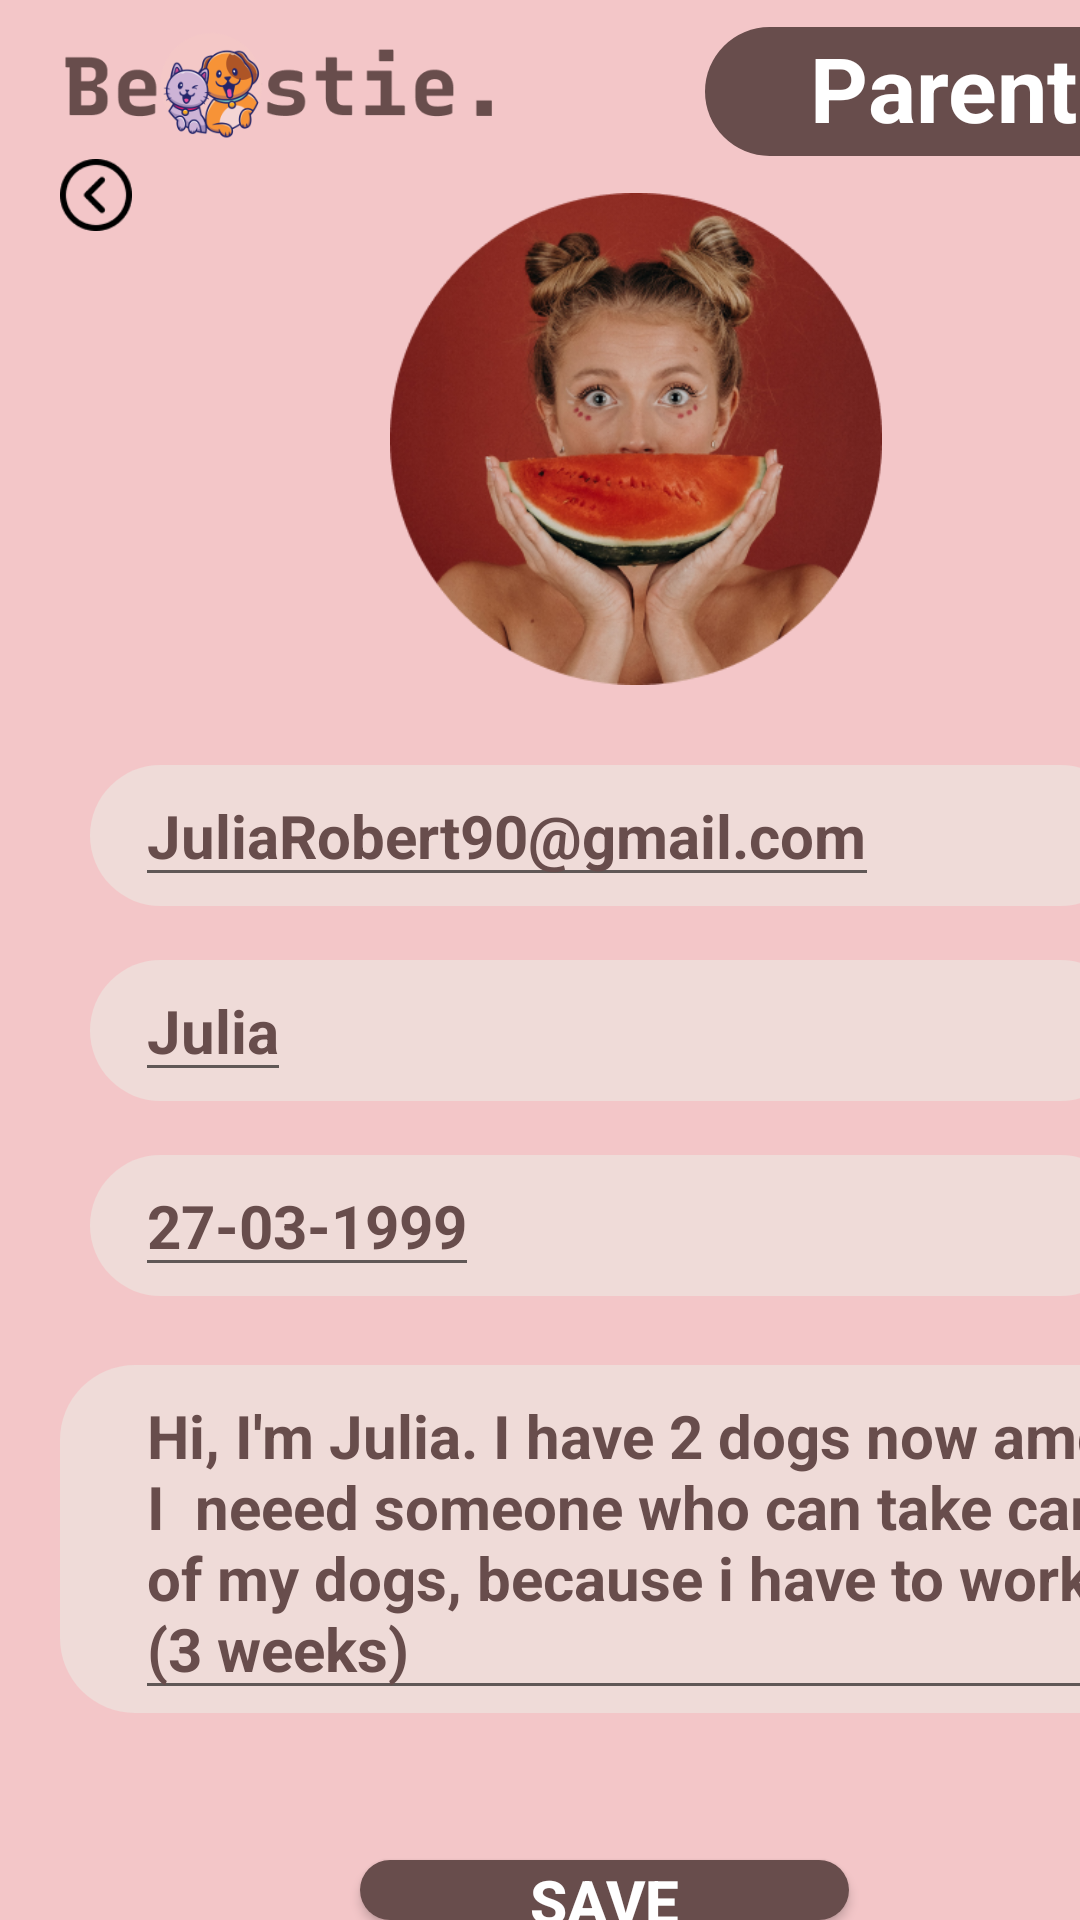

Named icons in this screenshot (1080px×1920px) and their bounding boxes, BBox(x1, y1, x2, y2):
balik: BBox(60, 159, 132, 231)
